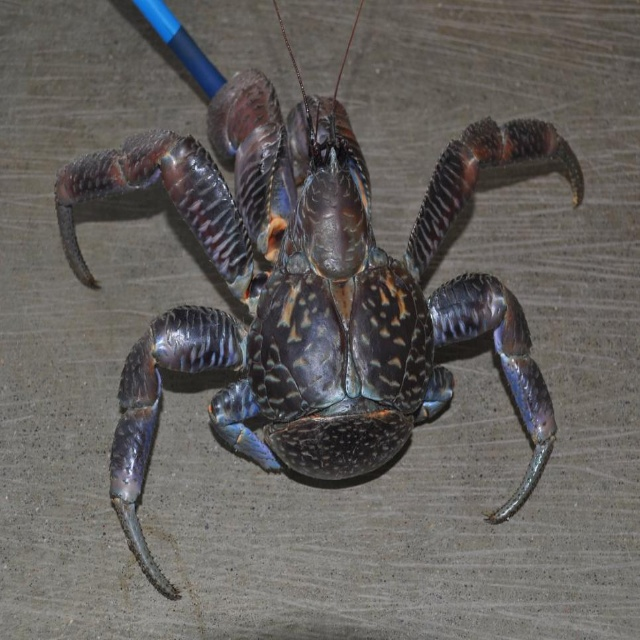Crab: (51, 0, 589, 604)
